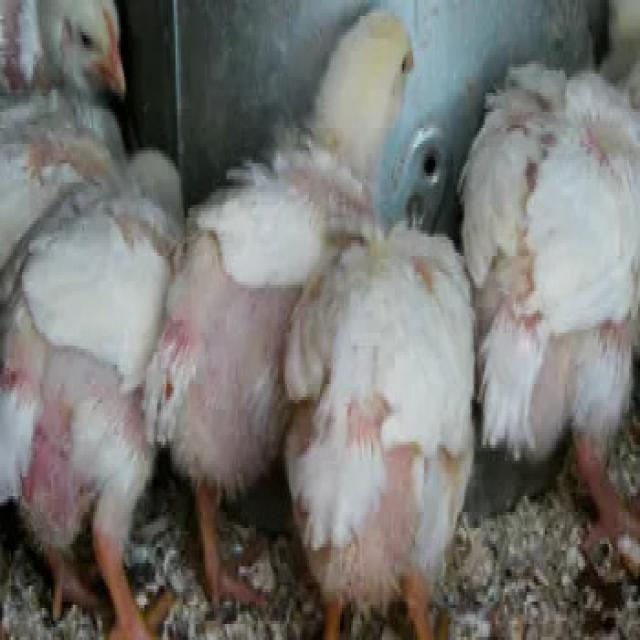poussin: (173, 15, 424, 600), (0, 148, 194, 638), (459, 60, 640, 525), (288, 228, 482, 640), (0, 0, 132, 222)
